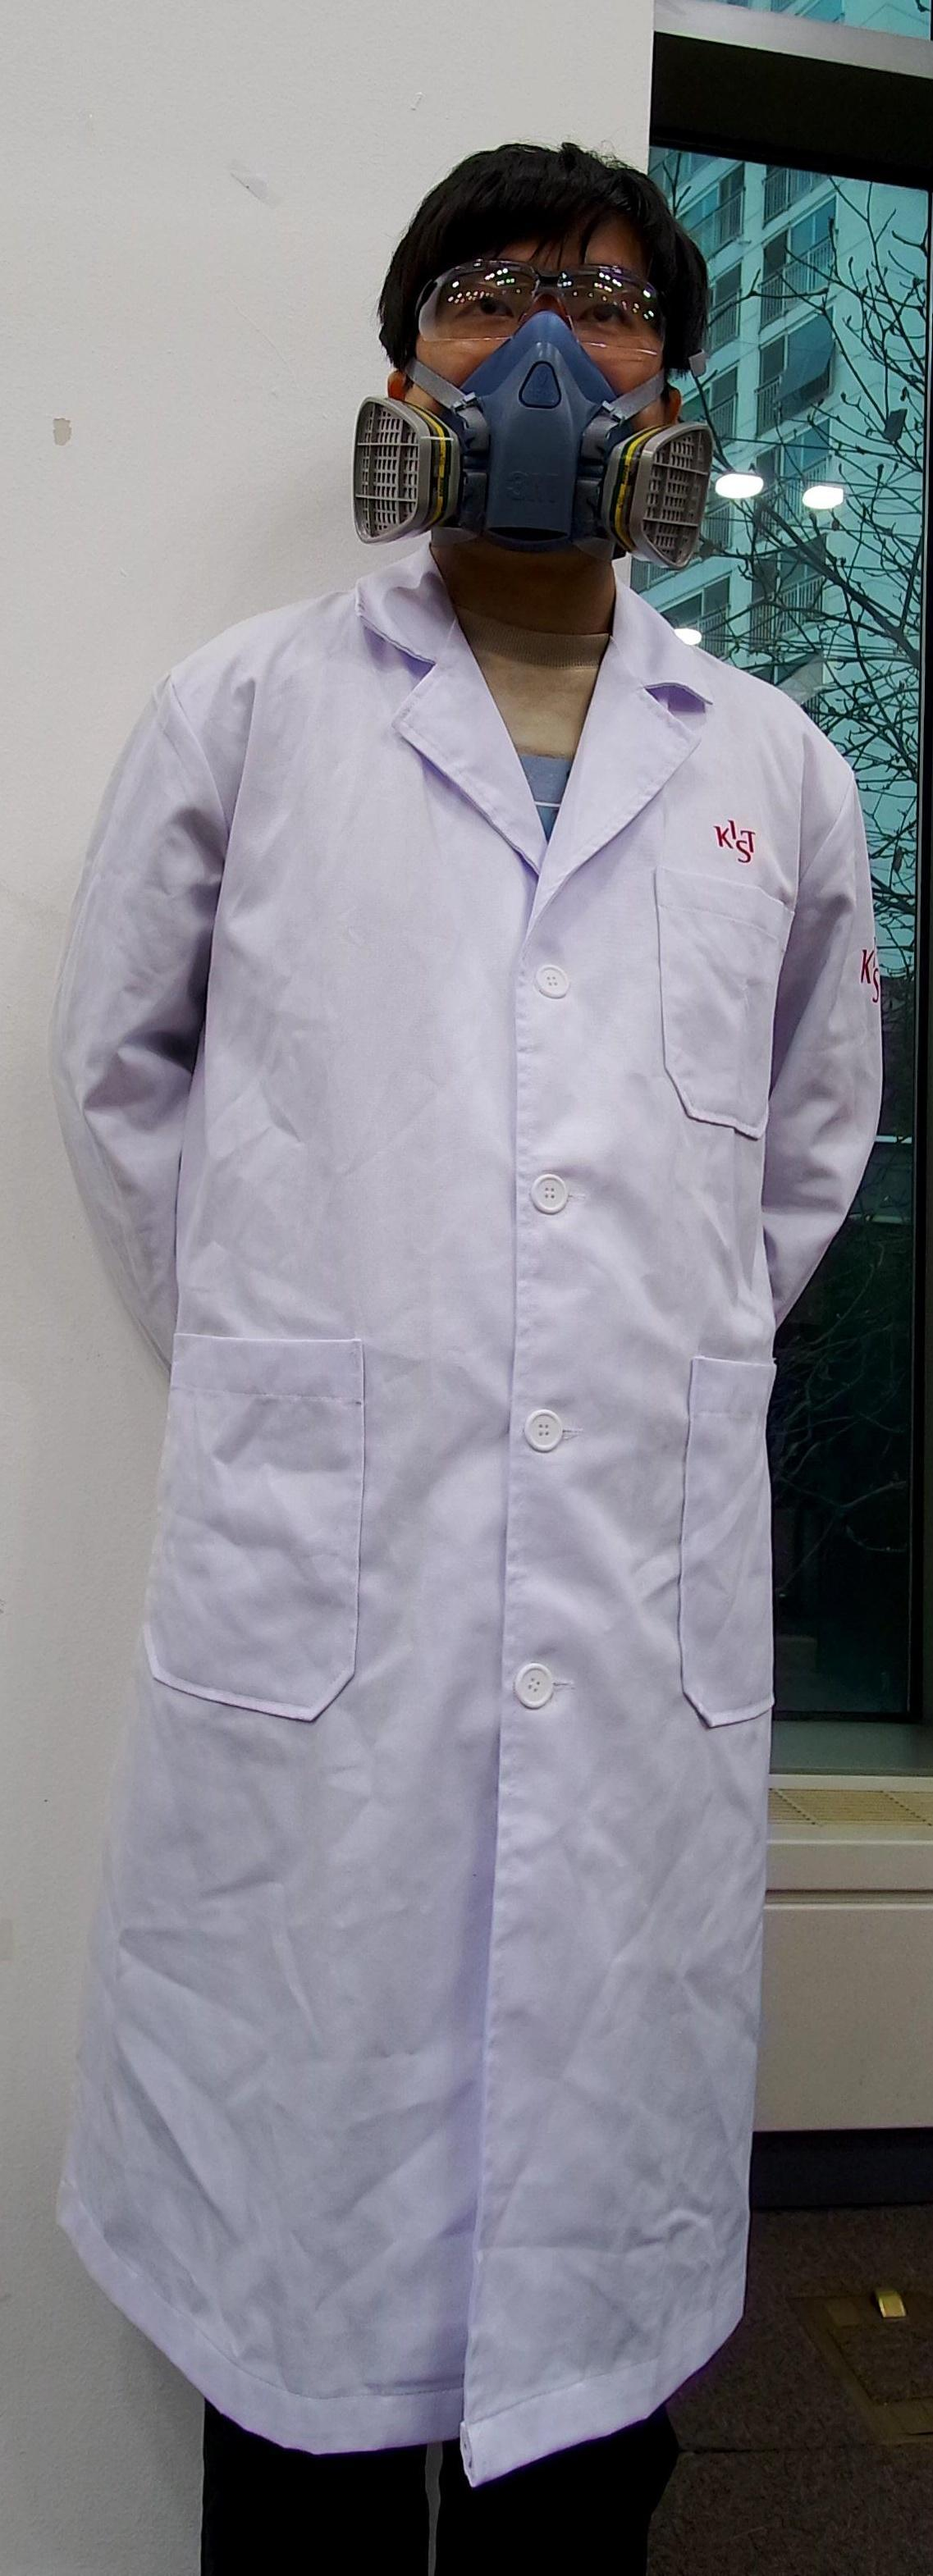lab_coat: (82, 522, 876, 2431)
